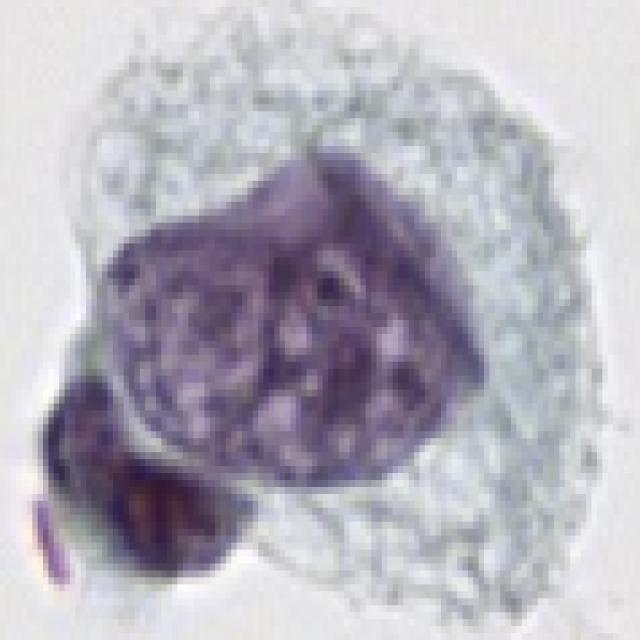nucleus: (66, 106, 538, 566), (0, 359, 269, 618)
